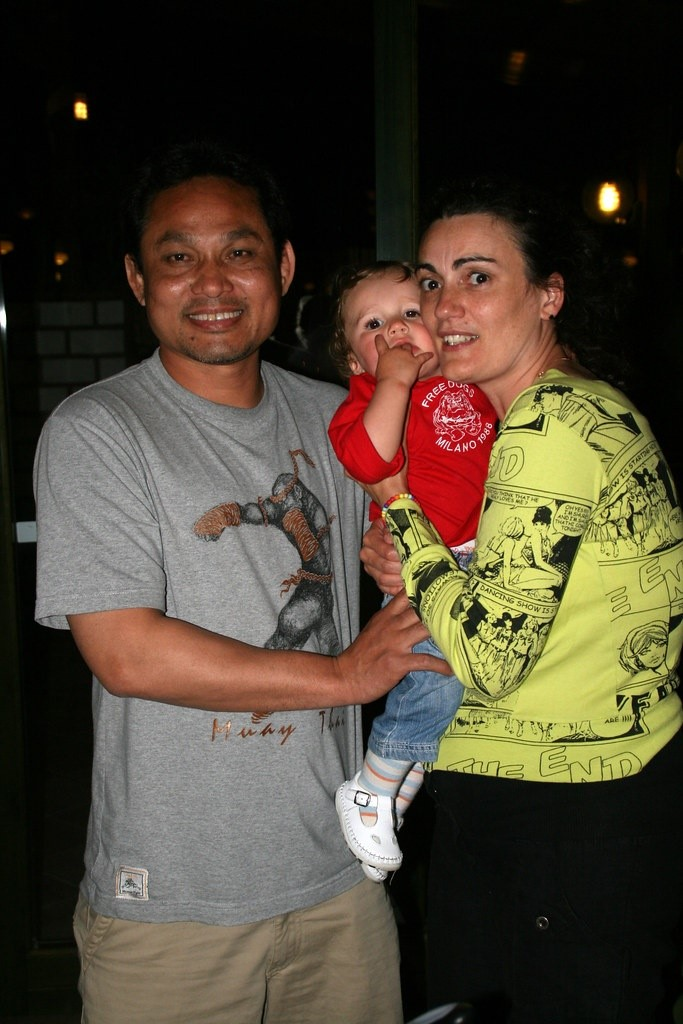face_no_mask: (122, 140, 297, 363), (416, 191, 568, 387), (338, 258, 437, 384)
